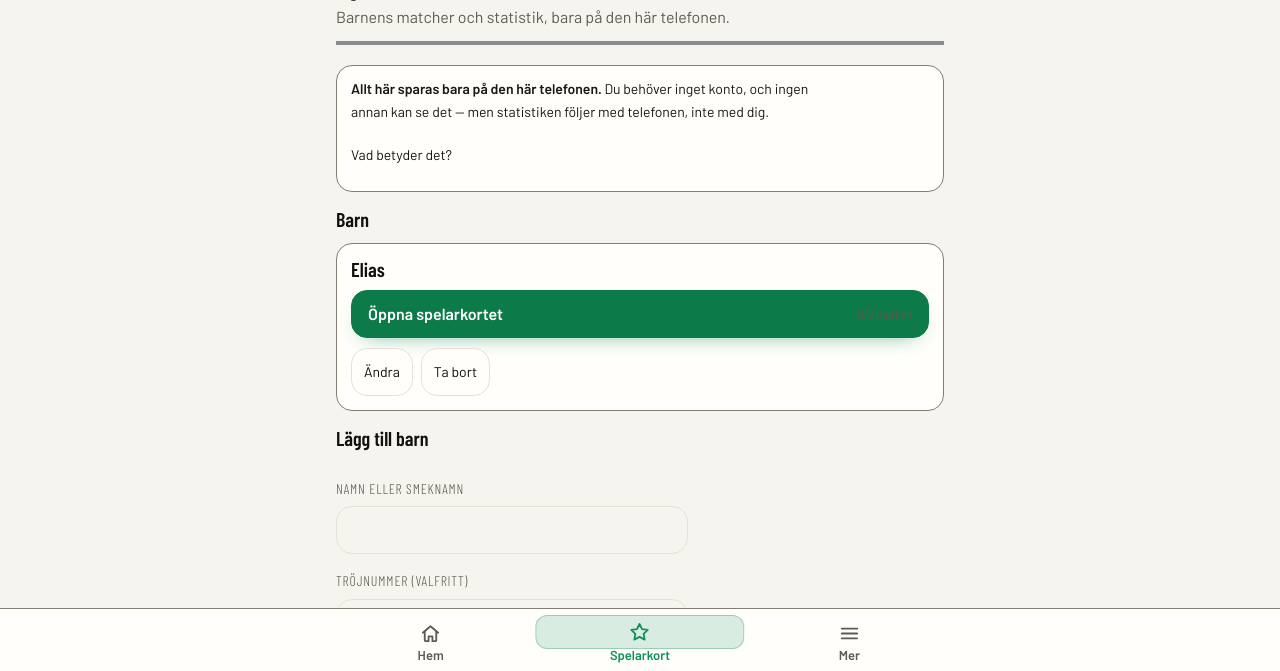
Test case: ta bort barn › kräver bekräftelse
Click the button named "Ta bort Elias" at (455, 372), box x1=421 y1=348 x2=490 y2=396
(page scrolled)
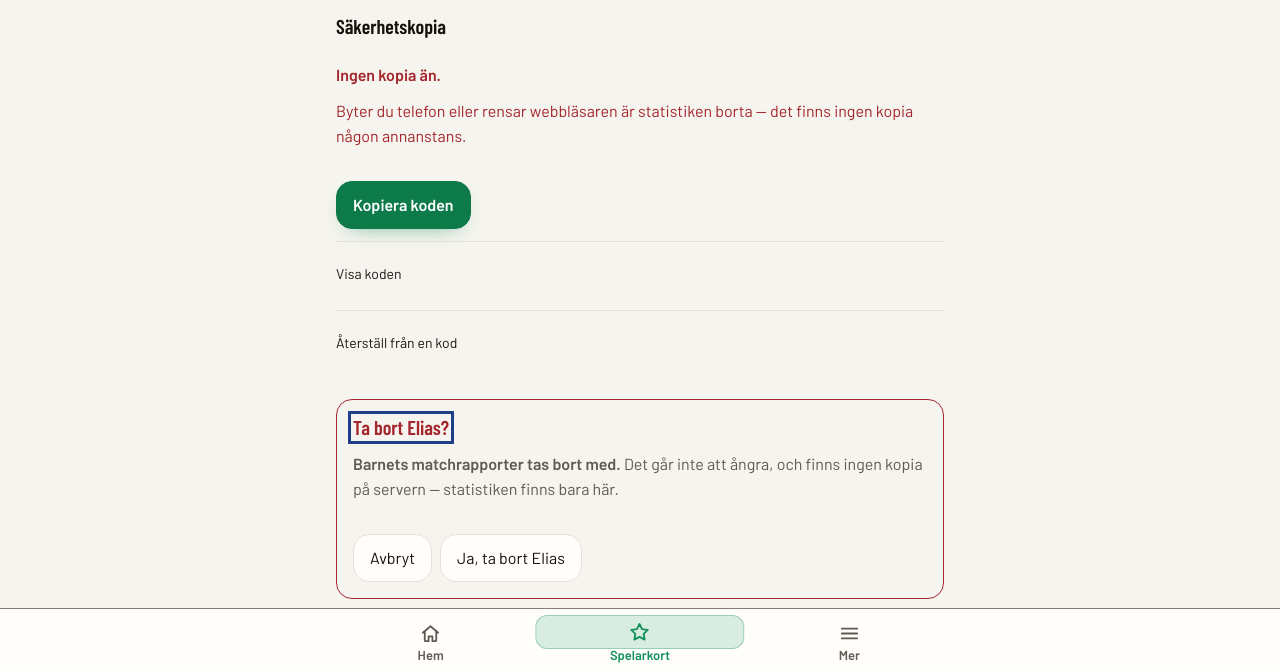
Expected: the button "Ja, ta bort Elias" is shown, x1=440 y1=534 x2=582 y2=582
